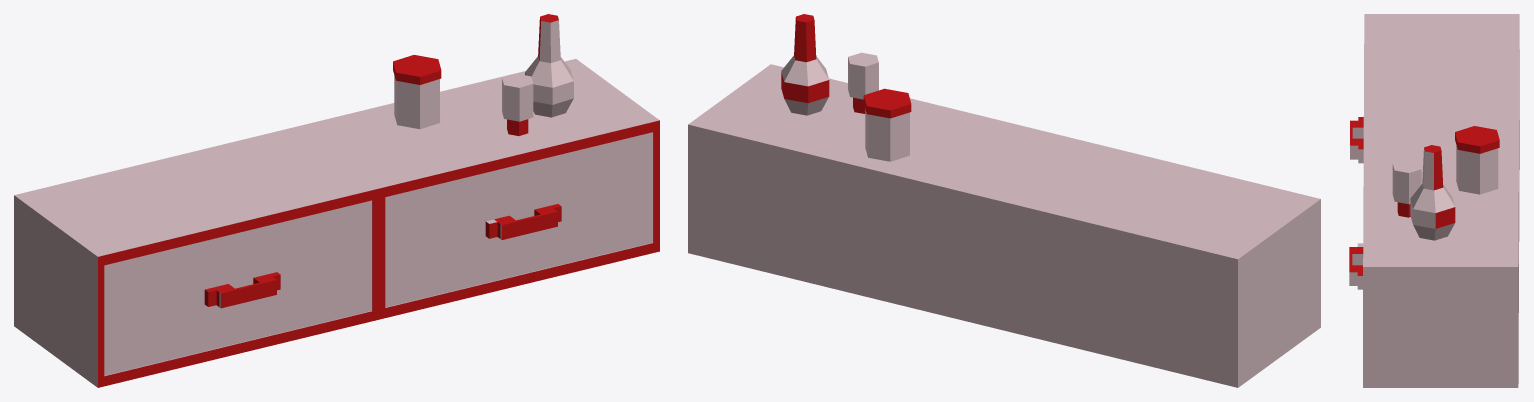
Rendered from k_komodin.obj.
The picture shows the model from 3 angles, left to right: view 1: azimuth 30°, elevation 25°; view 2: azimuth 150°, elevation 25°; view 3: azimuth 270°, elevation 25°; orthographic projection. The views are drawn at different scales.
Parts seen in each view (by area): view 1: cabinet.018_m_softred, cabinet.018_m_red, body_care_products.014_m_softred, body_care_products.014_m_red; view 2: cabinet.018_m_softred, body_care_products.014_m_softred, body_care_products.014_m_red; view 3: cabinet.018_m_softred, body_care_products.014_m_softred, body_care_products.014_m_red, cabinet.018_m_red.
Part boxes in pixels (x1,y1,x2,y2): cabinet.018_m_softred: (14,59,659,387); cabinet.018_m_red: (98,120,659,387); body_care_products.014_m_softred: (394,20,573,129); body_care_products.014_m_red: (393,14,558,135); cabinet.018_m_softred: (688,64,1320,387); body_care_products.014_m_softred: (781,52,909,161); body_care_products.014_m_red: (781,14,911,118); cabinet.018_m_softred: (1349,14,1519,387); body_care_products.014_m_softred: (1392,145,1498,240); body_care_products.014_m_red: (1397,126,1499,228); cabinet.018_m_red: (1349,117,1363,275).
Bounding box in the file's own units: 32.24 × 12.25 × 9.17.
